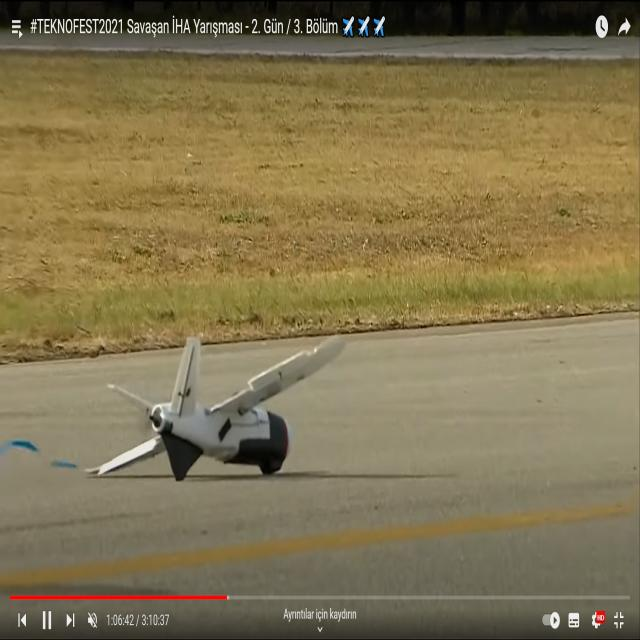iha: (87, 337, 344, 482)
